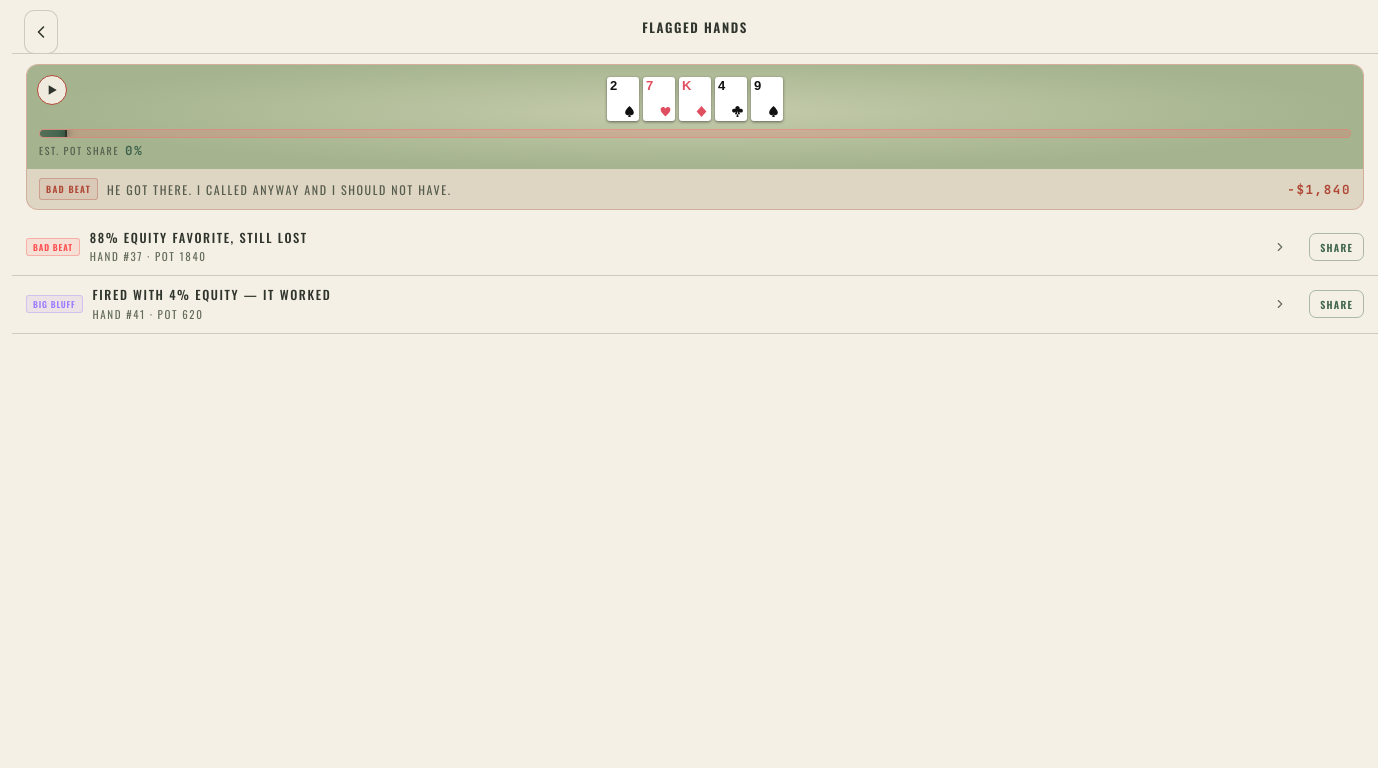
it: FlaggedHandsSheet hand review › goes back to the list
Click the text "88% equity favorite, still lost". click: (199, 238)
box: [90, 228, 308, 247]
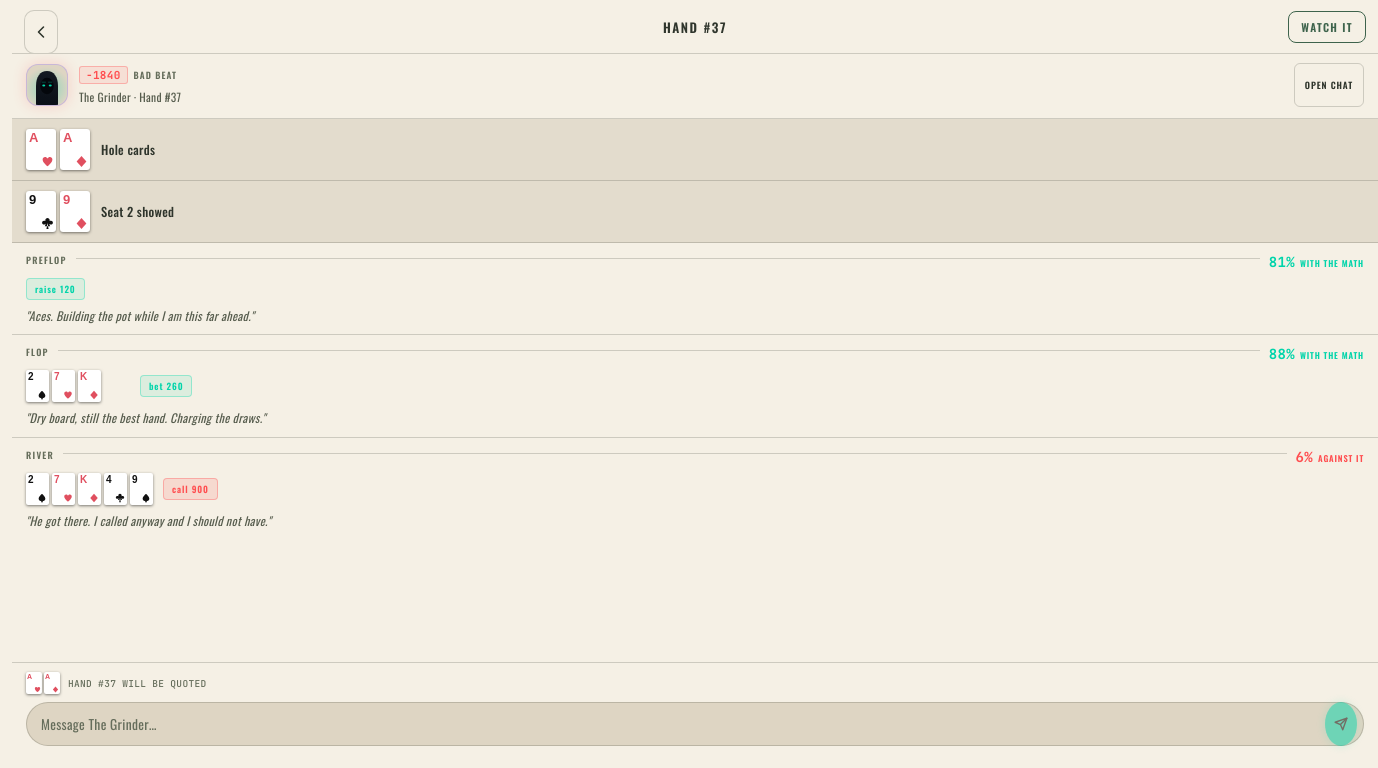
Expected: the text "Hole cards" is shown, [101, 140, 155, 159]
Click the button named "Back". click: (41, 32)
box: [24, 10, 58, 54]
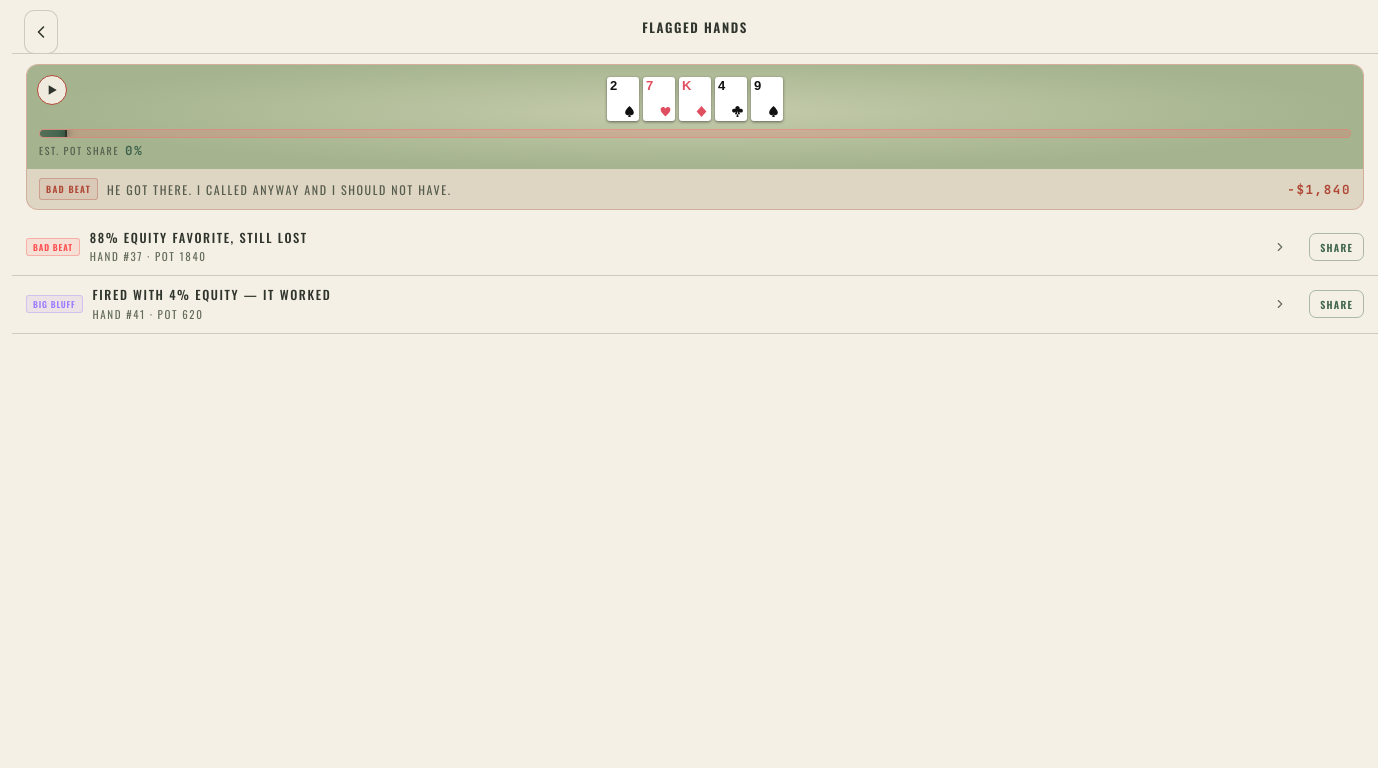
Expected: the text "88% equity favorite, still lost" is shown, [90, 228, 308, 247]
